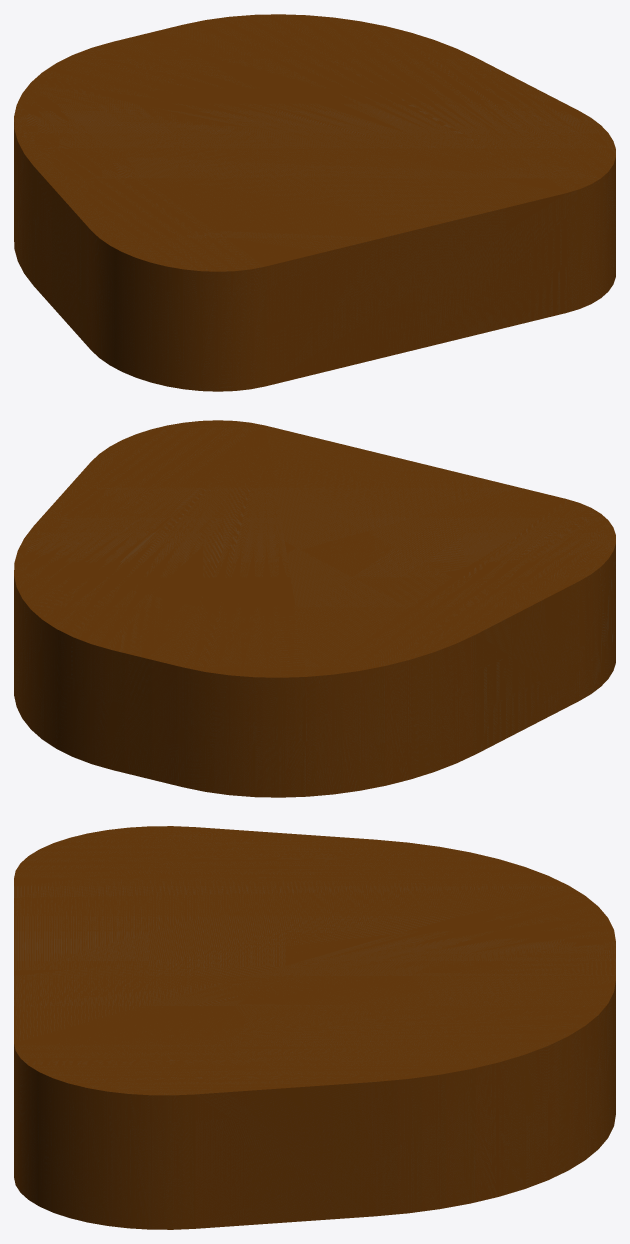
Rendered from original-25.obj.
3 views of the same model, one above another, from view 1: azimuth 30°, elevation 25°; view 2: azimuth 150°, elevation 25°; view 3: azimuth 270°, elevation 25° (orthographic). The views are drawn at different scales.
Parts seen in each view (by area): view 1: mesh31/mesh31-geometry#mesh31-geometry; view 2: mesh31/mesh31-geometry#mesh31-geometry; view 3: mesh31/mesh31-geometry#mesh31-geometry.
Boxes of the visible parts, x1=… form: mesh31/mesh31-geometry#mesh31-geometry: x1=14, y1=14, x2=615, y2=391; mesh31/mesh31-geometry#mesh31-geometry: x1=14, y1=420, x2=615, y2=797; mesh31/mesh31-geometry#mesh31-geometry: x1=14, y1=826, x2=615, y2=1229.
Bounding box in the file's own units: 0.6415 × 0.1493 × 0.606.
